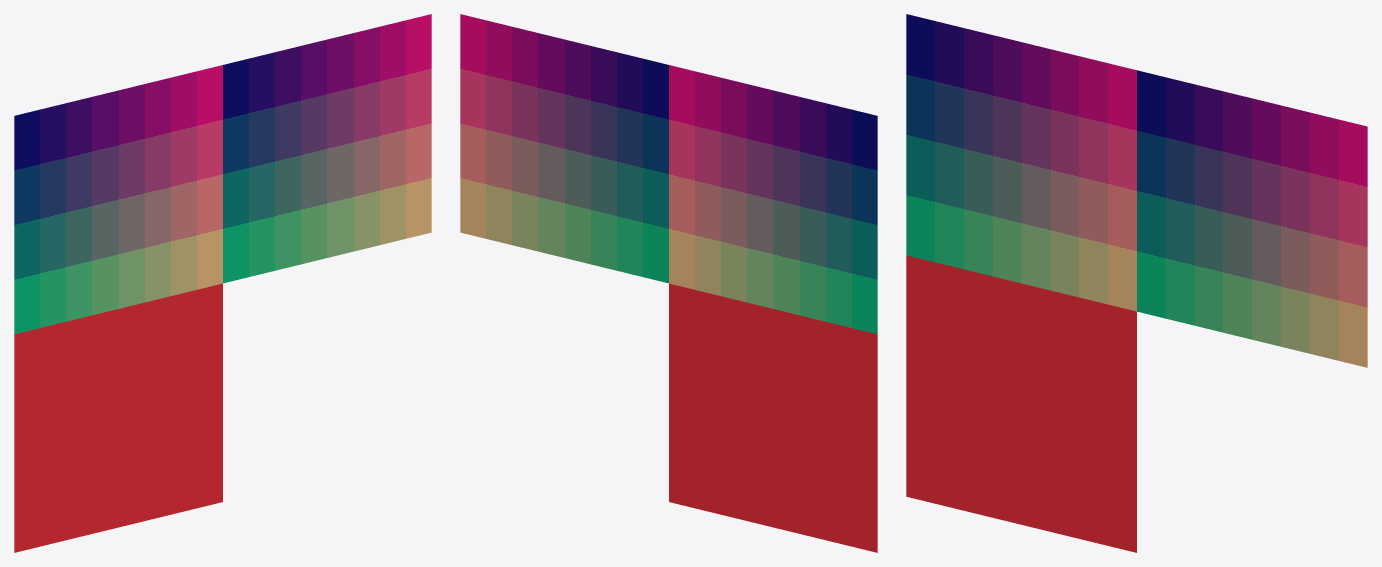
The model's file is one_part.glb.
3 views of the same model, side by side, from view 1: azimuth 30°, elevation 25°; view 2: azimuth 150°, elevation 25°; view 3: azimuth 330°, elevation 25° (orthographic). The views are drawn at different scales.
Visible parts, largest first — view 1: one_part; view 2: one_part; view 3: one_part.
Part boxes in pixels (x1=…): one_part: x1=14, y1=14, x2=431, y2=552; one_part: x1=460, y1=14, x2=877, y2=552; one_part: x1=906, y1=14, x2=1367, y2=552.
Bounding box in the file's own units: 2 × 2 × 0.
Materials: 1 (1 with a texture image).
